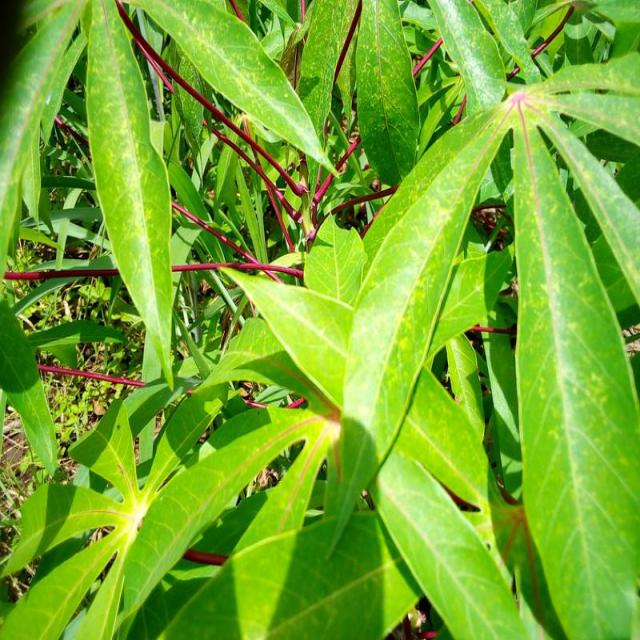cassava leaf: (1, 1, 638, 638), (82, 0, 175, 391)
